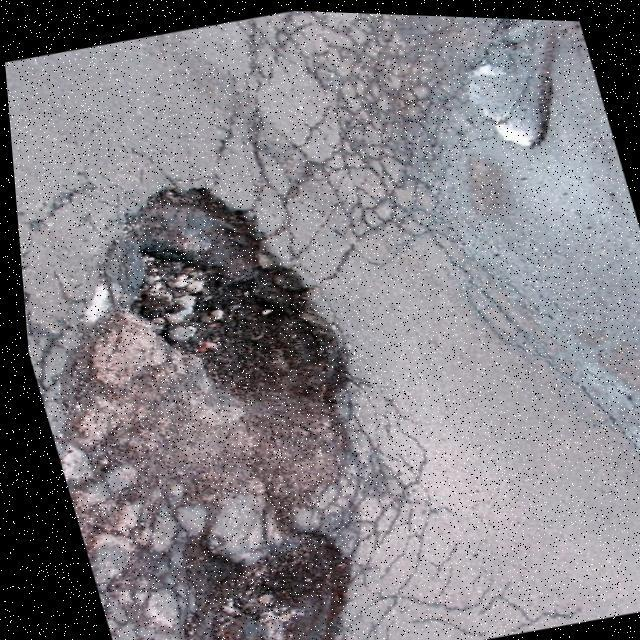pothole: (72, 148, 384, 478), (144, 492, 396, 640), (468, 24, 604, 150)
